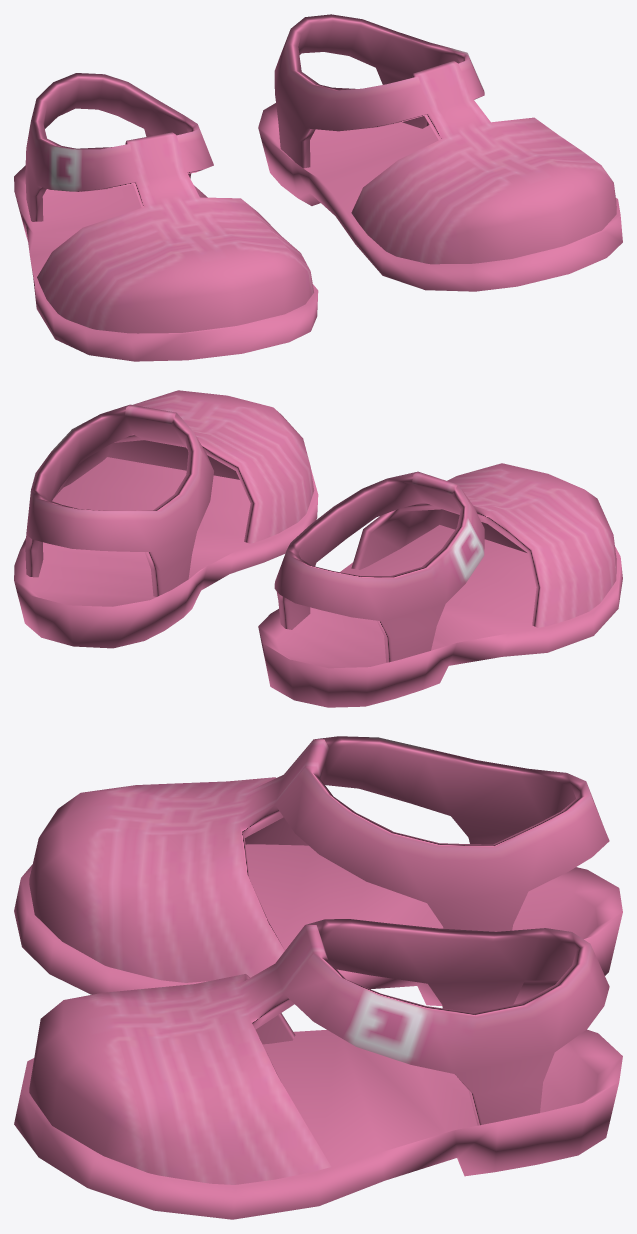
File: ShoesSandalAqua0.glb
3 renders of one model, top to bottom at view 1: azimuth 30°, elevation 25°; view 2: azimuth 150°, elevation 25°; view 3: azimuth 270°, elevation 25°, orthographic. The views are drawn at different scales.
Visible parts, largest first — view 1: Body__mShoes; view 2: Body__mShoes; view 3: Body__mShoes.
Part boxes in pixels (x1,y1,x2,y2): Body__mShoes: (14, 14, 622, 361); Body__mShoes: (14, 390, 622, 707); Body__mShoes: (14, 736, 622, 1219).
Bounding box in the file's own units: 3.51 × 0.9181 × 2.56.
1 material, 1 textured.
